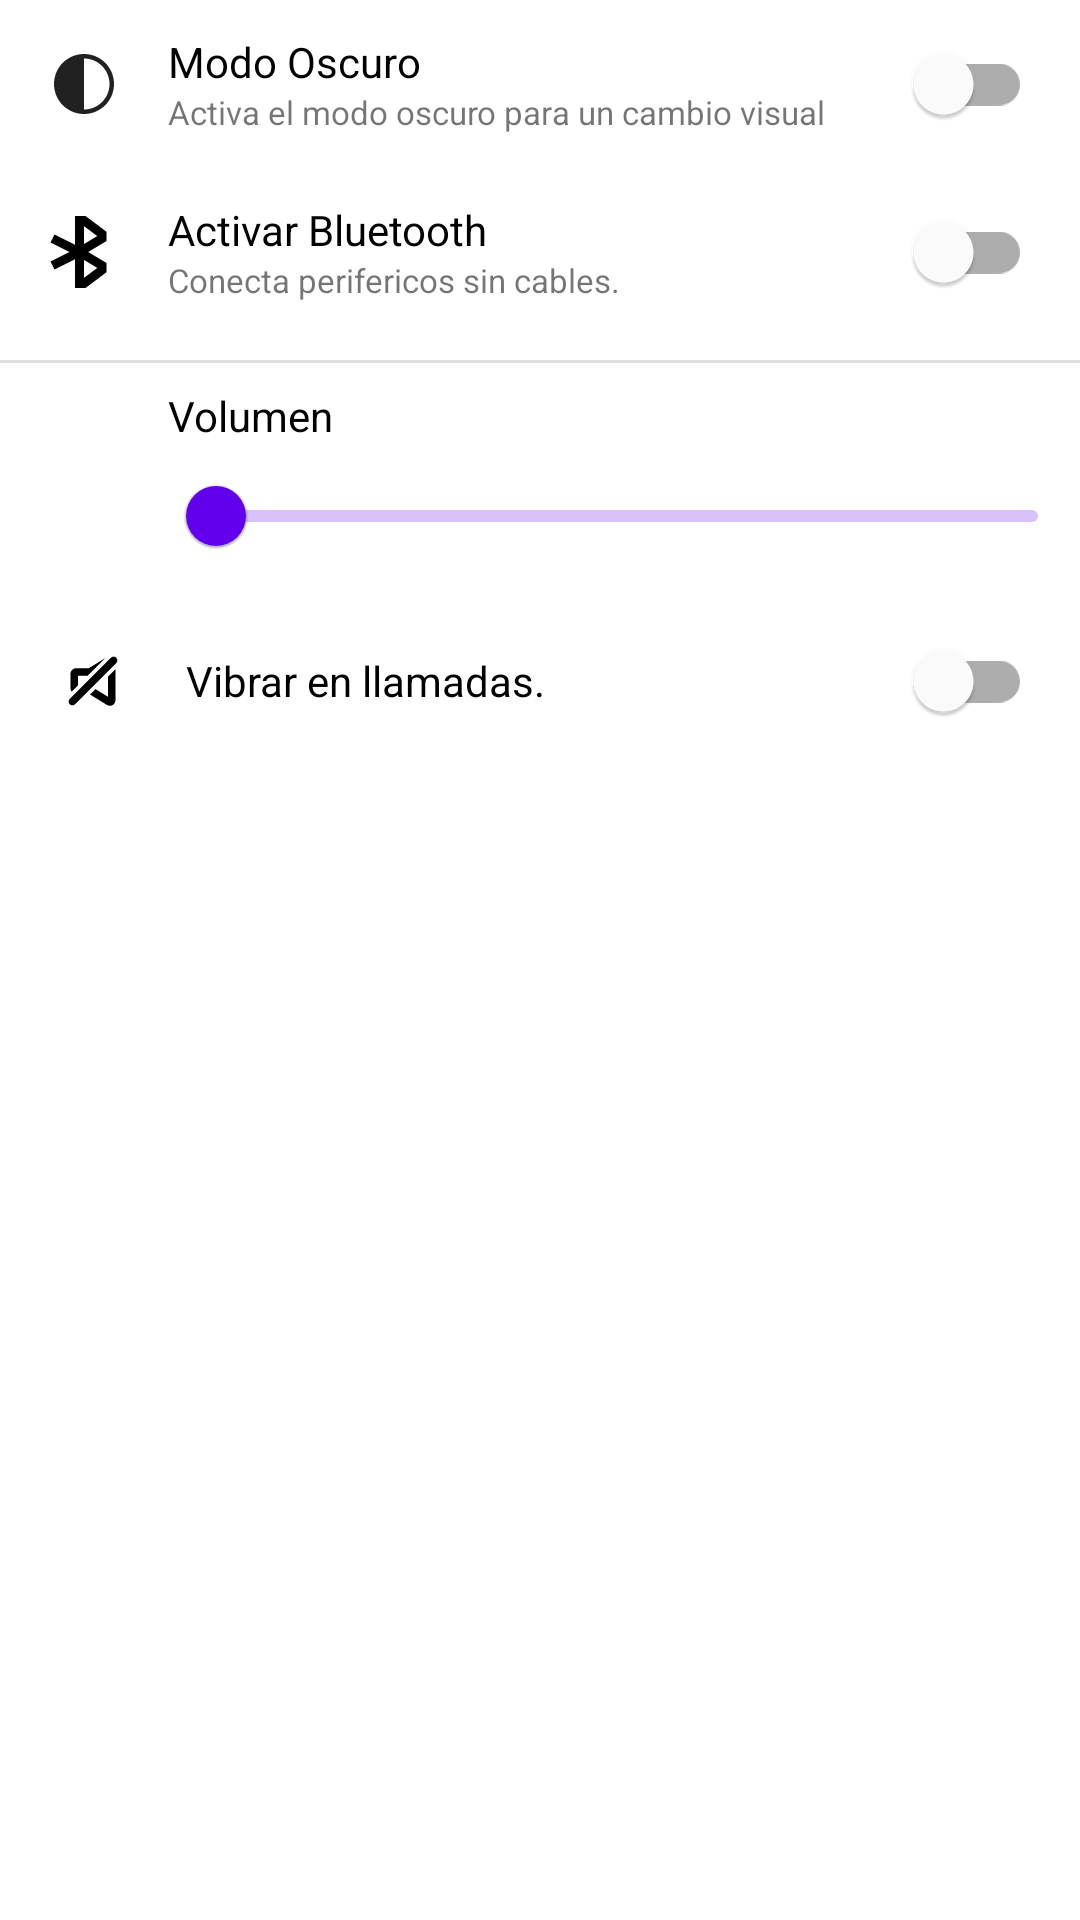

Icon click points for this 1080px x 1920px phone screenshot, format point (x, y):
mute: point (93, 681)
theme: point (84, 84)
